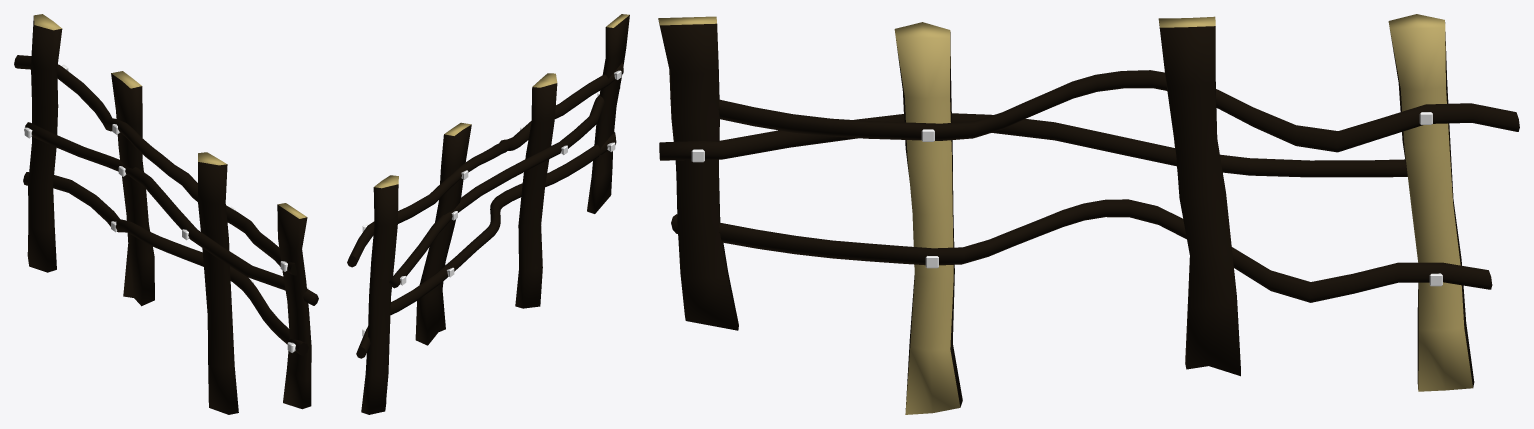
The model's file is fence2.fbx.
The picture shows the model from 3 angles, left to right: view 1: azimuth 30°, elevation 25°; view 2: azimuth 150°, elevation 25°; view 3: azimuth 270°, elevation 25°; orthographic projection. The views are drawn at different scales.
Visible parts, largest first — view 1: fence2_LOD0, nails002; view 2: fence2_LOD0, nails002; view 3: fence2_LOD0, nails002.
Part boxes in pixels (bbox=[...]): fence2_LOD0: bbox=[14, 14, 318, 414]; nails002: bbox=[24, 64, 308, 352]; fence2_LOD0: bbox=[347, 14, 629, 414]; nails002: bbox=[362, 70, 621, 336]; fence2_LOD0: bbox=[658, 14, 1519, 414]; nails002: bbox=[691, 112, 1442, 286].
Size of what is drawn, in the model's own units: 43.51 by 159 by 323.
